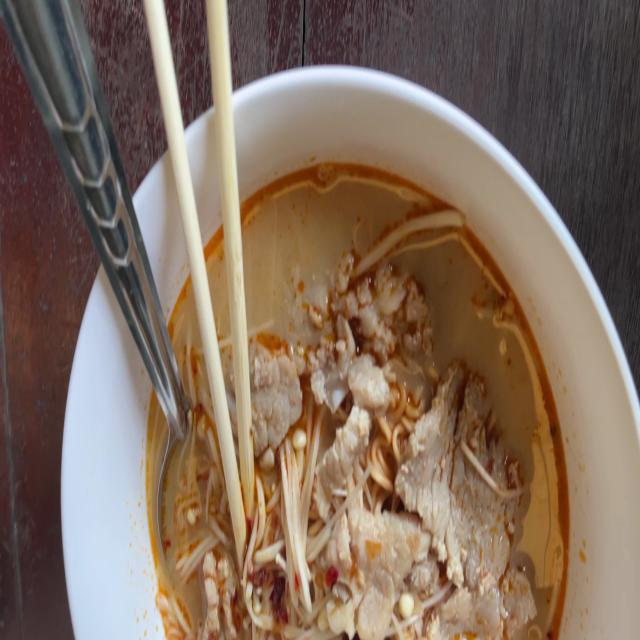noodle: (140, 169, 574, 640)
